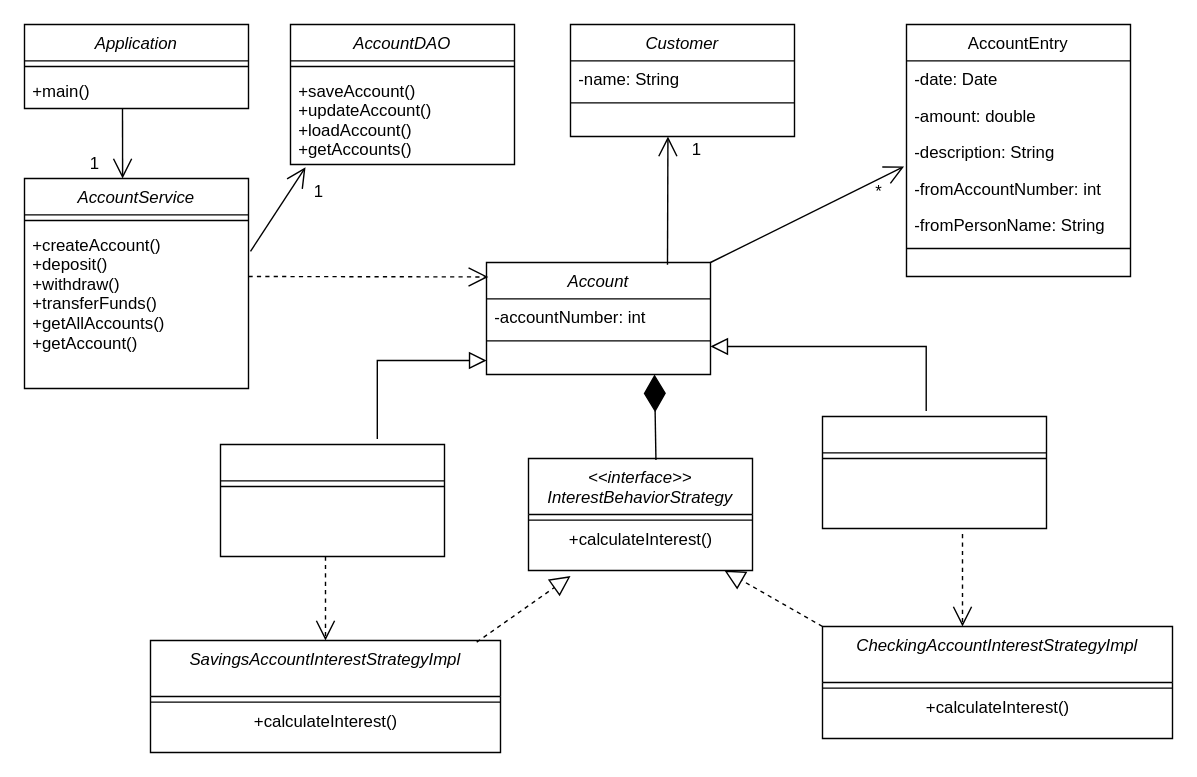
The diagram is 1197 pixels wide and 777 high, and some of its shapes have lost their labels. Each missing label, with the centre of its shape:
CheckingAccount: pixel 933 471
SavingsAccount: pixel 331 499
